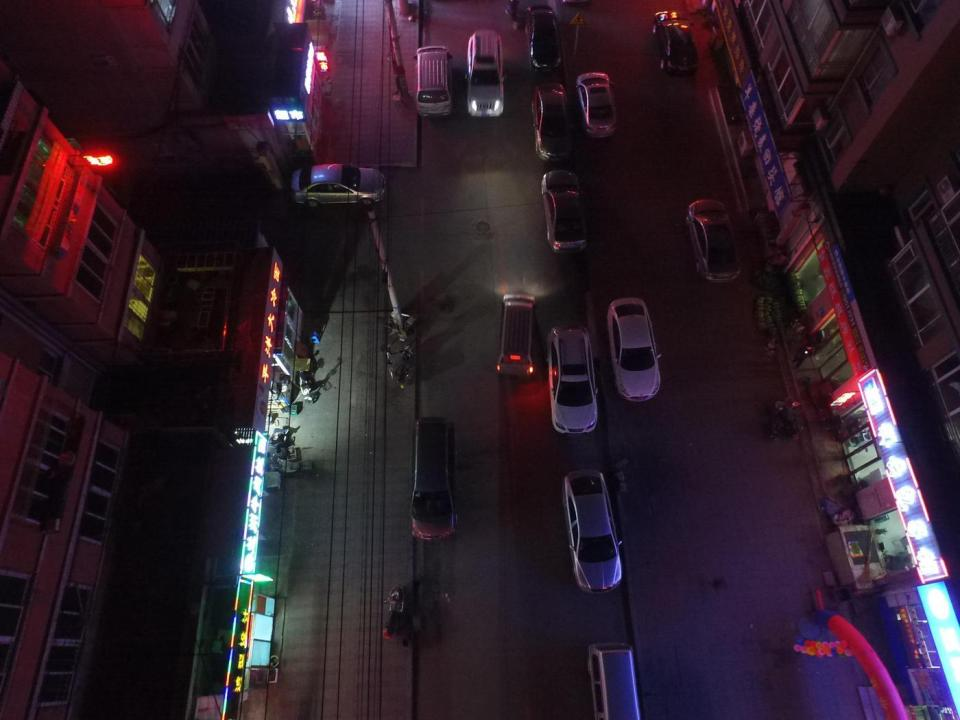car: (562, 472, 624, 596), (546, 327, 601, 434), (411, 419, 459, 539), (606, 298, 661, 398), (689, 200, 740, 283), (545, 169, 590, 256), (466, 31, 509, 116), (529, 82, 575, 160), (290, 166, 389, 202), (576, 70, 621, 138), (417, 46, 459, 118), (655, 11, 701, 75), (524, 6, 561, 80)
van: (501, 293, 538, 379)
